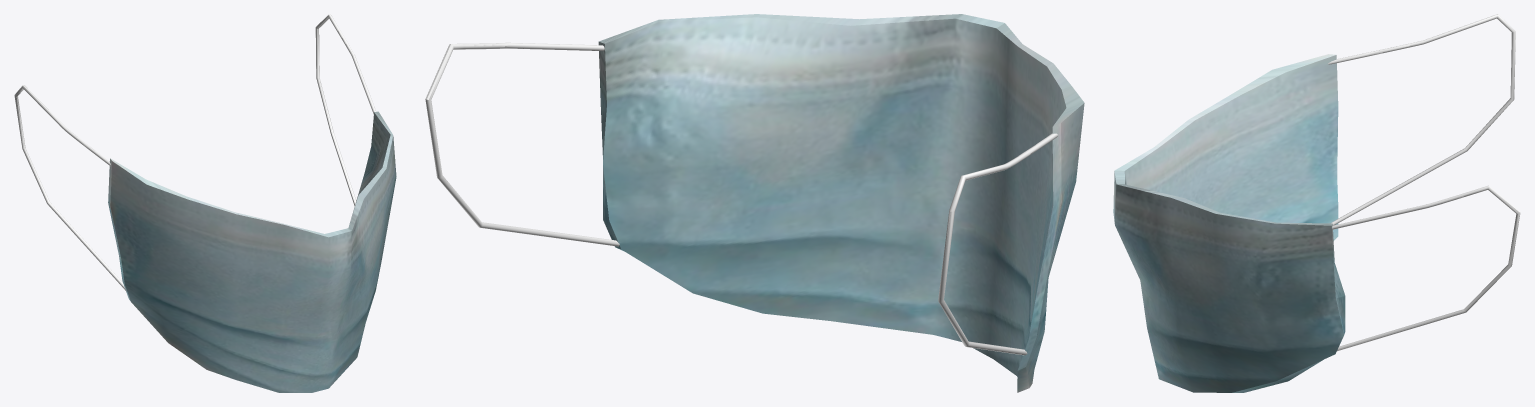
The model's file is mask.fbx.
The picture shows the model from 3 angles, left to right: view 1: azimuth 30°, elevation 25°; view 2: azimuth 150°, elevation 25°; view 3: azimuth 270°, elevation 25°; orthographic projection. The views are drawn at different scales.
Parts seen in each view (by area): view 1: maks; view 2: maks; view 3: maks.
Part boxes in pixels (x1=…): maks: x1=14, y1=14, x2=396, y2=392; maks: x1=425, y1=14, x2=1084, y2=392; maks: x1=1113, y1=14, x2=1520, y2=392.
Size of the model in its own units: 15.36 by 11.33 by 15.21.
Materials: 1 (1 with a texture image).
